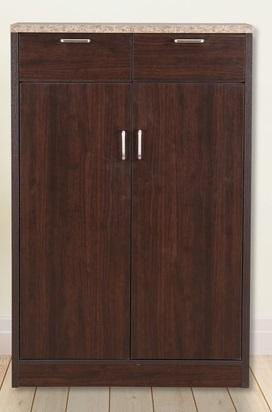cabinet_door: (22, 82, 133, 353), (132, 84, 243, 354), (134, 31, 245, 78), (21, 31, 133, 77)
handle: (58, 33, 92, 48), (172, 34, 206, 48), (119, 127, 128, 163), (136, 125, 144, 163)
